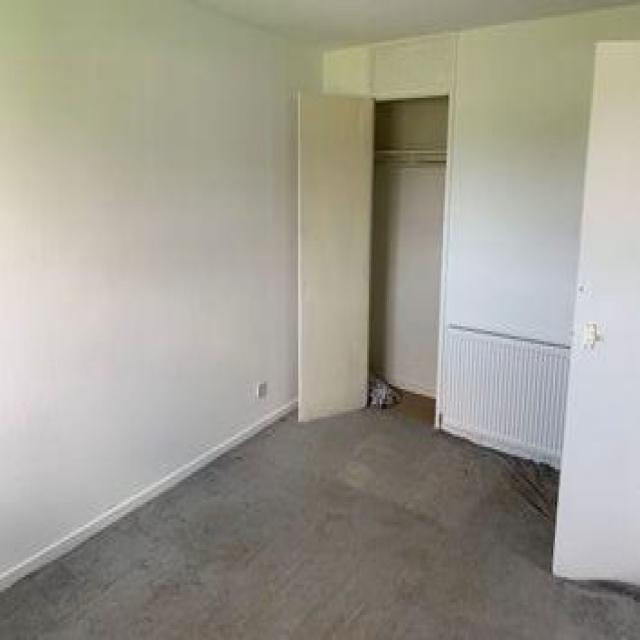Wall: (0, 2, 319, 572), (0, 394, 640, 639), (446, 5, 639, 344), (195, 1, 640, 44), (323, 35, 456, 100)
